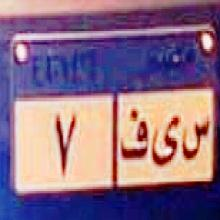7: (54, 108, 79, 180)
faa: (119, 105, 149, 169)
seen: (181, 113, 210, 162)
yaa: (149, 115, 180, 170)
